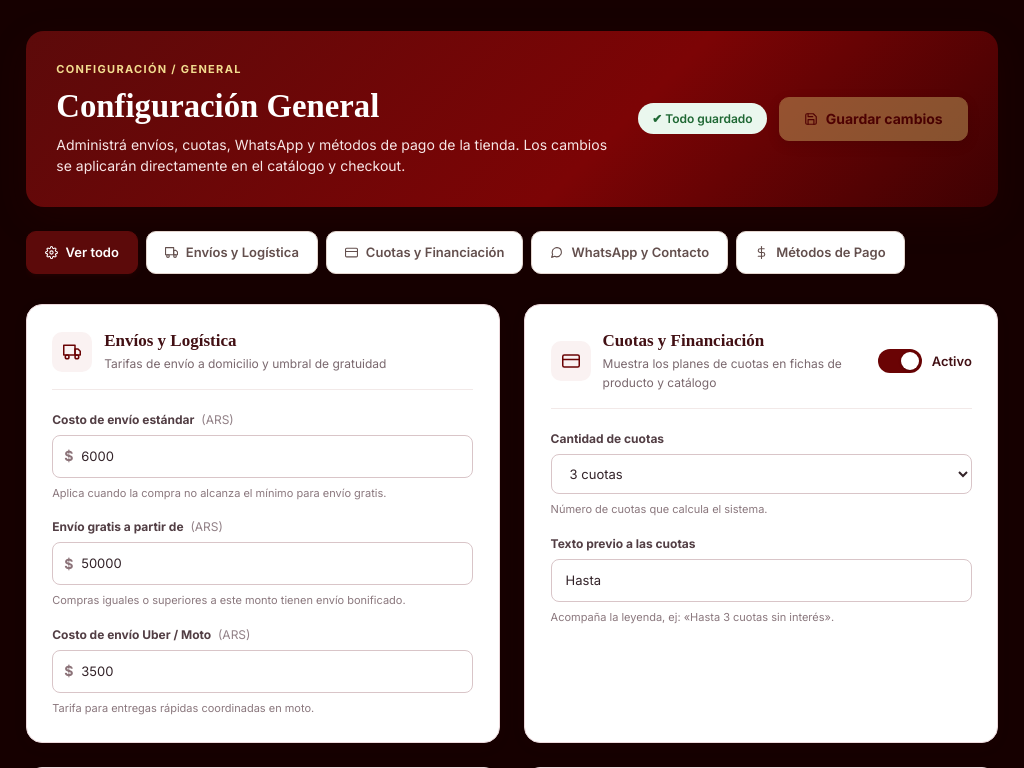
Test: permite modificar campos y guardar la configuración con PUT
This screenshot has width=1024, height=768.
Expected: the heading "Configuración General" is shown, top-left (56, 88), bottom-right (379, 124)
Replace the text in the number field labelled "Costo de envío estándar (ARS)" with "7500": (263, 456) top-left (52, 435), bottom-right (473, 478)
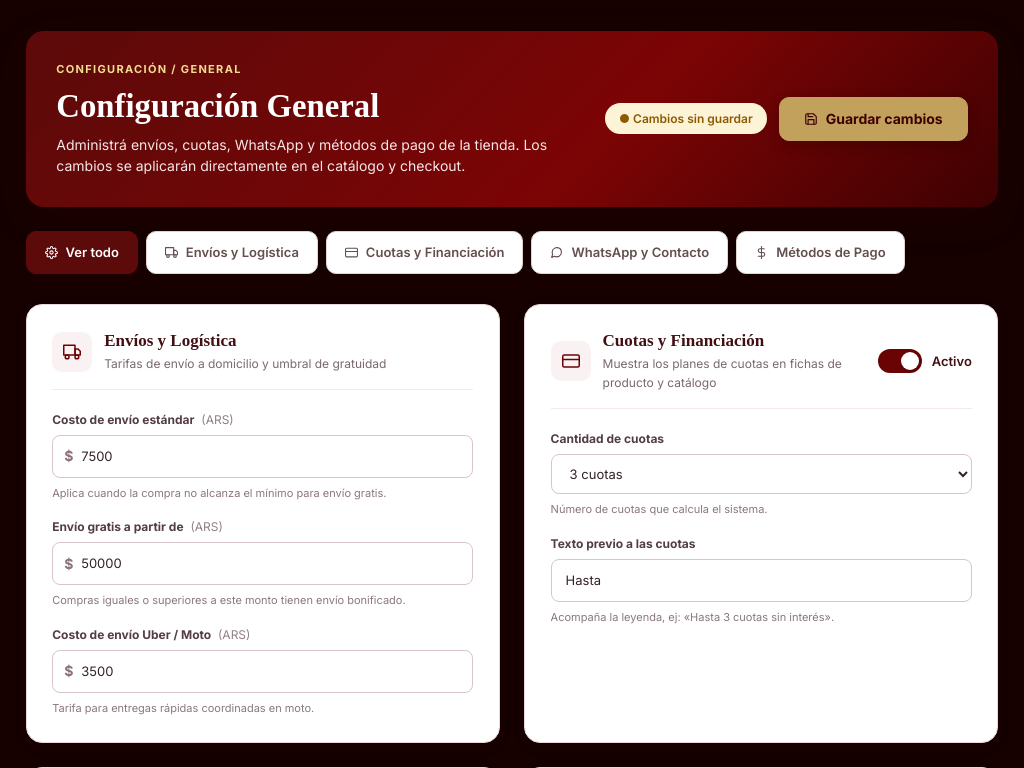
Expected: the button "Guardar cambios" is enabled
Click the button "Guardar cambios": (873, 119) top-left (779, 97), bottom-right (968, 141)
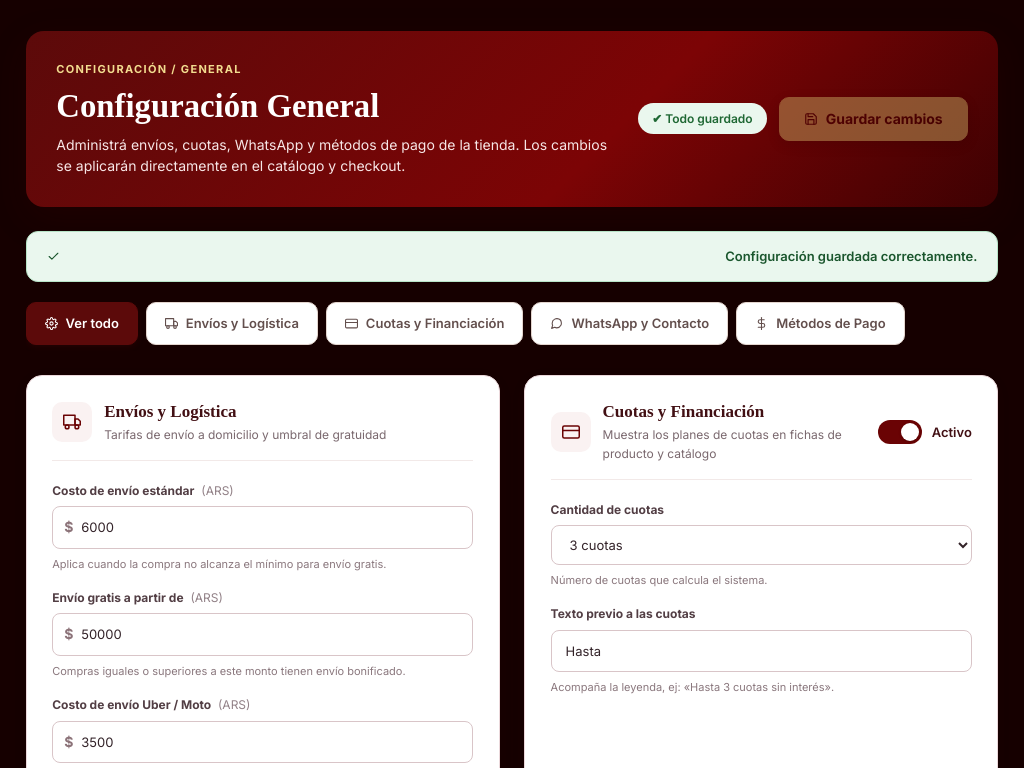
Expected: the text "Configuración guardada correctamente." is shown, top-left (26, 231), bottom-right (998, 282)
